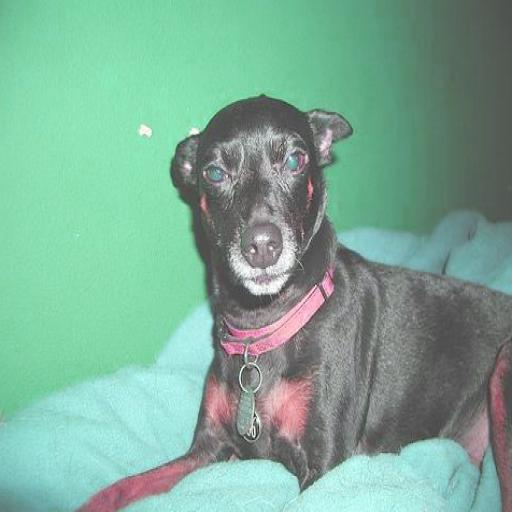dog_face: (163, 95, 341, 303)
